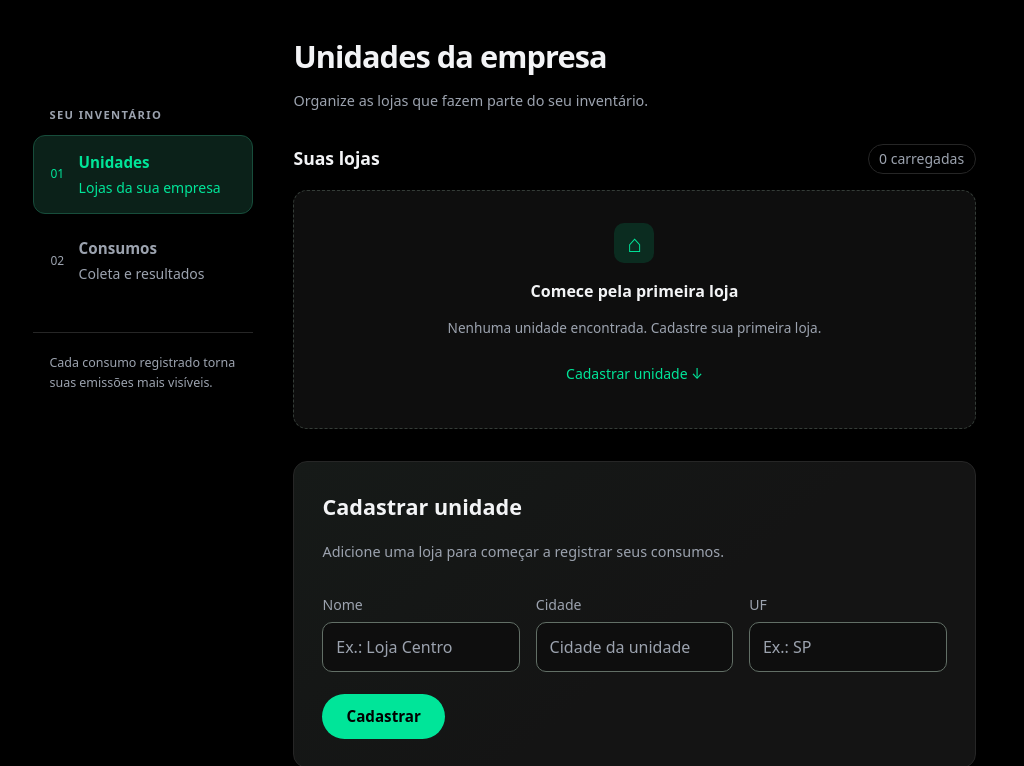
it: cadastro envia dados normalizados e confirma sucesso
The width and height of the screenshot is (1024, 766).
Expected: the text "Nenhuma unidade encontrada. Cadastre sua primeira loja." is shown, [448,318,821,337]
In the field labelled "Nome": (421, 647) [322,622,520,672], type " Loja Centro "
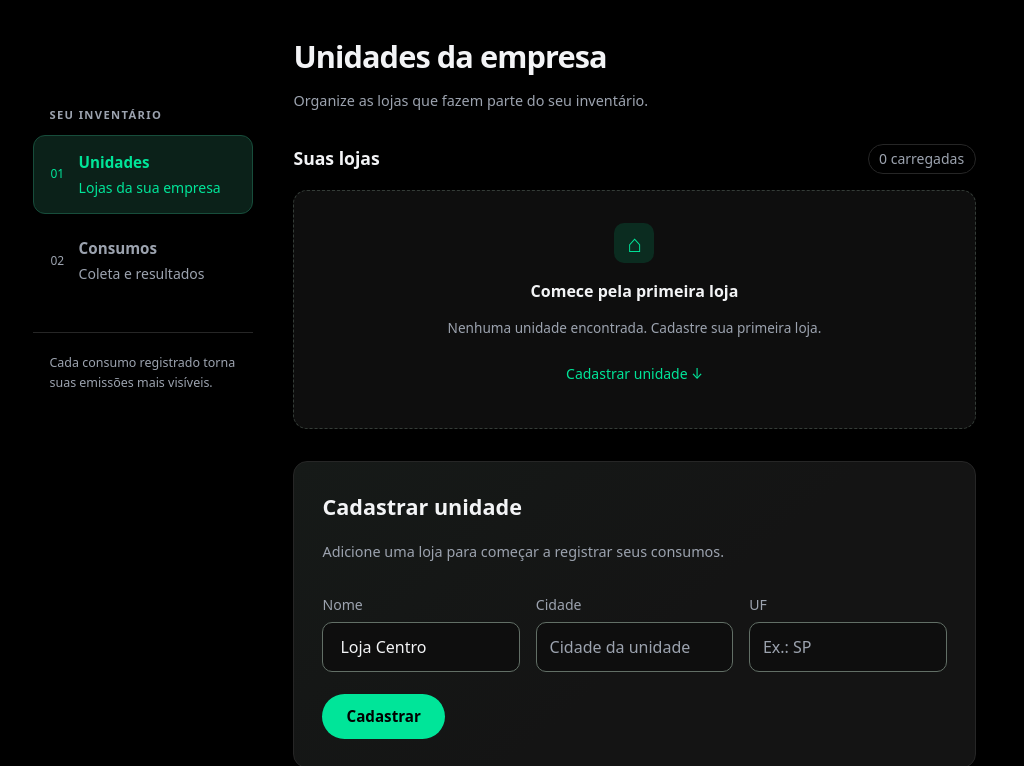
In the field labelled "Cidade": (634, 647) [536,622,733,672], type " Brasilia "
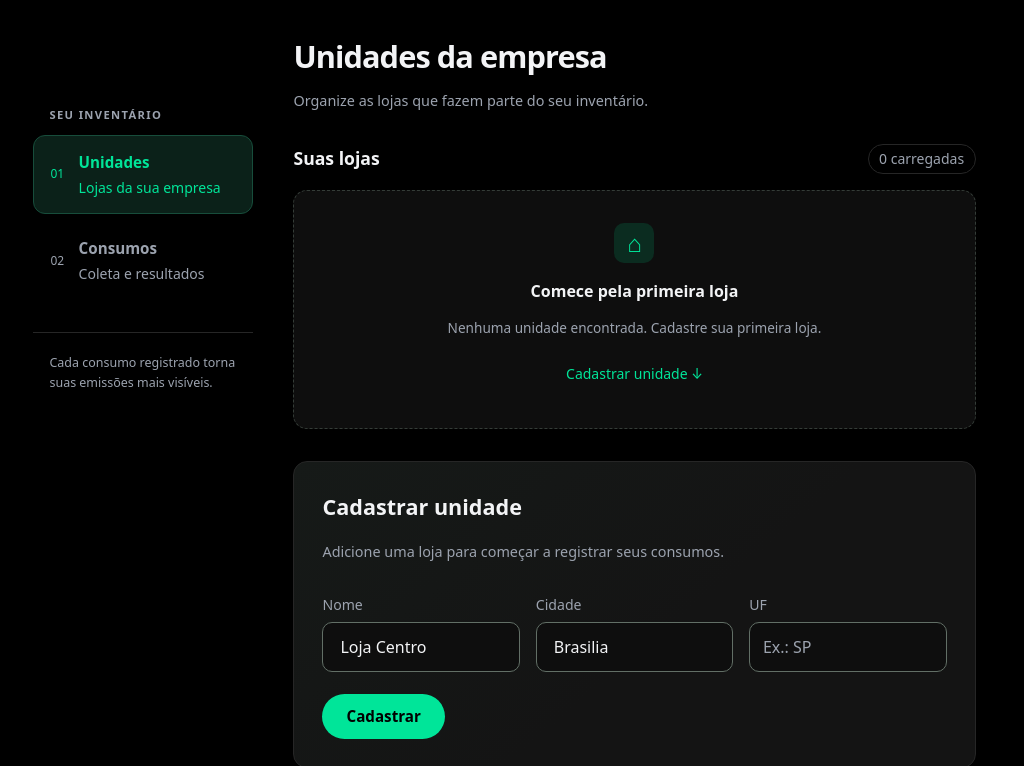
In the field labelled "UF": (848, 647) [749,622,947,672], type "df"
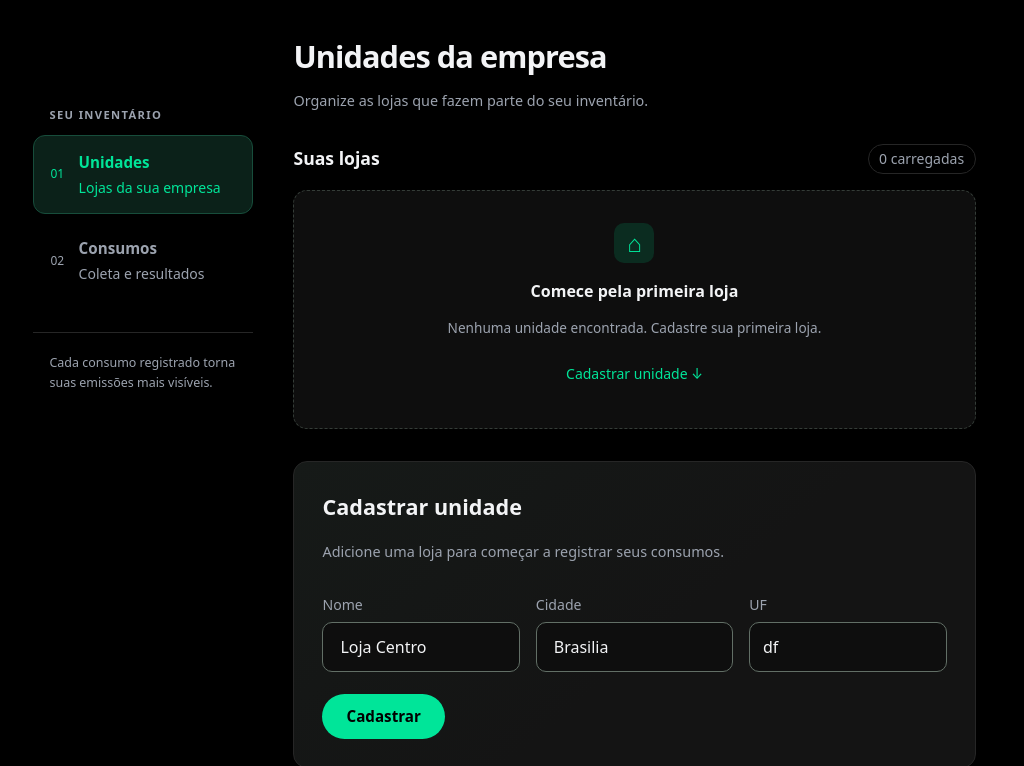
Click the button "Cadastrar": (384, 716) [322,694,445,739]
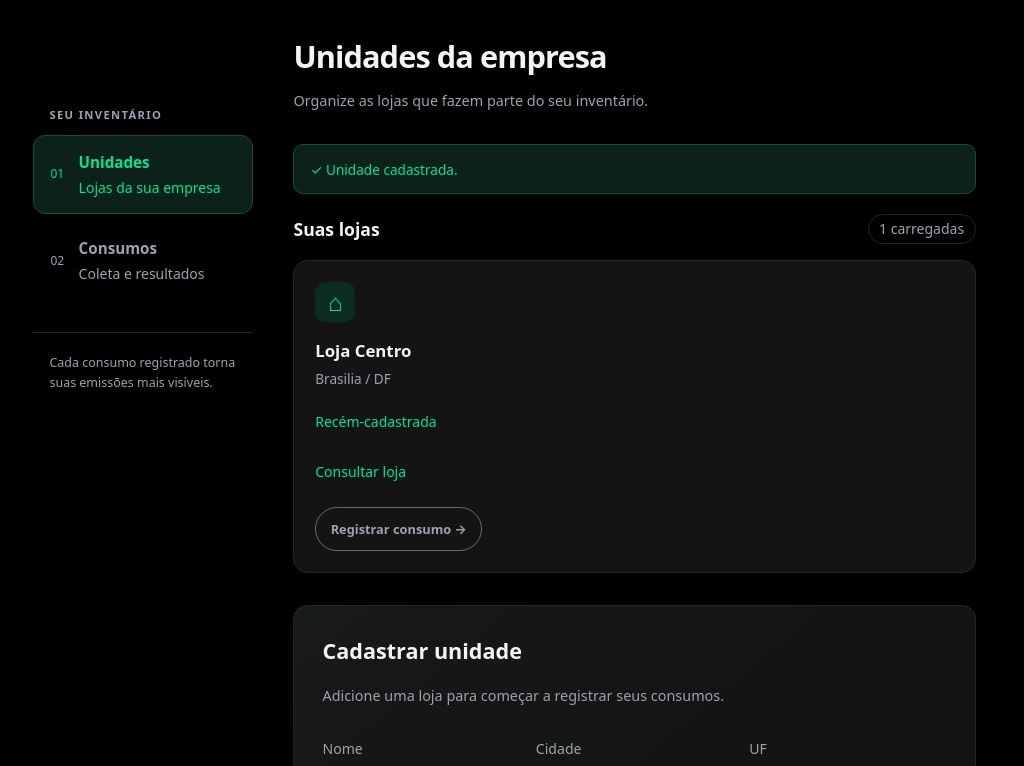
Result: the text "✓ Unidade cadastrada." is shown at [294,144,976,194]
